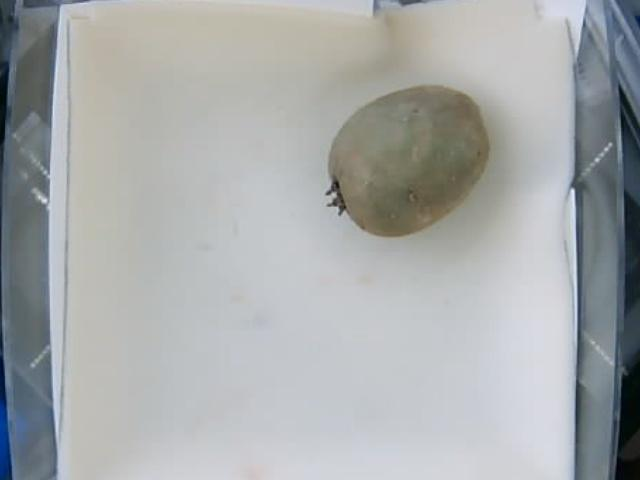Potato: (324, 82, 491, 243)
